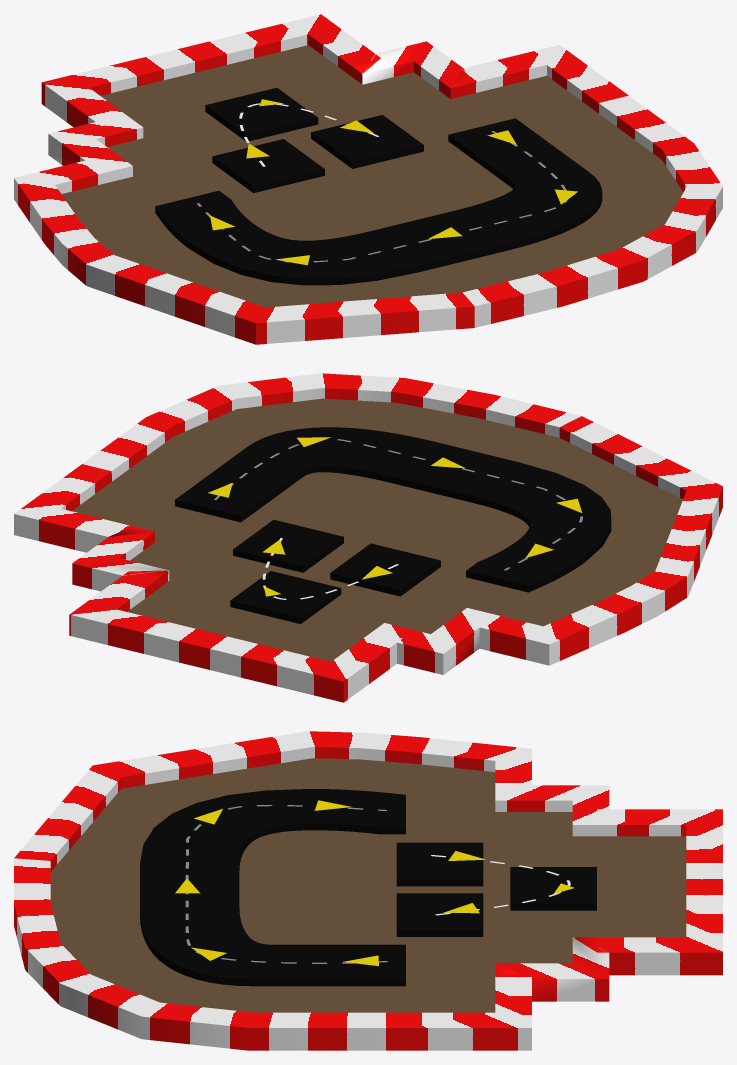
Rendered from tha2.FBX.
The picture shows the model from 3 angles, top to bottom: view 1: azimuth 30°, elevation 25°; view 2: azimuth 150°, elevation 25°; view 3: azimuth 270°, elevation 25°; orthographic projection. The views are drawn at different scales.
Visible parts, largest first — view 1: tha2_floor, tha2_coll, tha2; view 2: tha2_floor, tha2_coll, tha2; view 3: tha2_floor, tha2_coll, tha2, Line0.
Boxes of the visible parts, left/top/right/bottom form: tha2_floor: left=61, top=45, right=683, bottom=307; tha2_coll: left=14, top=14, right=722, bottom=344; tha2: left=155, top=87, right=602, bottom=285; tha2_floor: left=72, top=398, right=682, bottom=661; tha2_coll: left=14, top=373, right=722, bottom=702; tha2: left=175, top=427, right=611, bottom=623; tha2_floor: left=50, top=758, right=686, bottom=1012; tha2_coll: left=14, top=731, right=722, bottom=1050; tha2: left=140, top=789, right=596, bottom=986; Line0: left=185, top=805, right=387, bottom=963.
Size of the model in its own units: 922 by 32.81 by 930.
